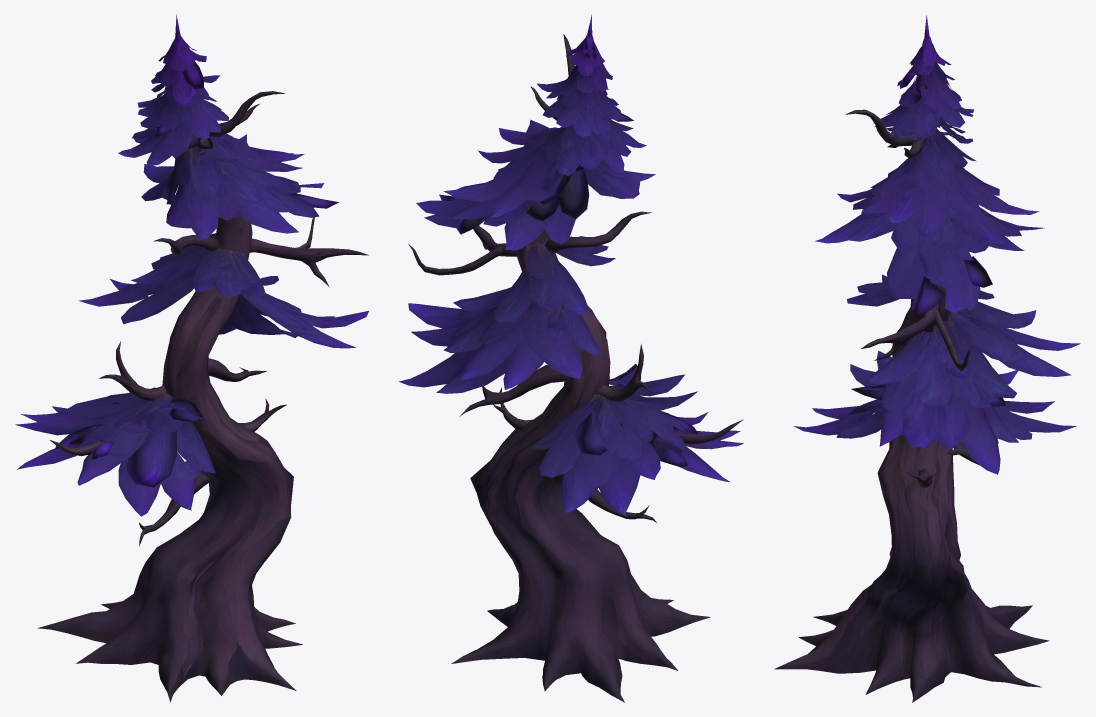
Rendered from Twisted_Indigo_Tree.glb.
3 views of the same model, side by side, from view 1: azimuth 30°, elevation 25°; view 2: azimuth 150°, elevation 25°; view 3: azimuth 270°, elevation 25° (orthographic).
Visible parts, largest first — view 1: Twisted_Indigo_Tree; view 2: Twisted_Indigo_Tree; view 3: Twisted_Indigo_Tree.
Boxes of the visible parts, box(x1,y1,x2,y2) form: Twisted_Indigo_Tree: box(15, 14, 368, 702); Twisted_Indigo_Tree: box(399, 14, 743, 702); Twisted_Indigo_Tree: box(774, 15, 1080, 702).
Size of the model in its own units: 0.5605 by 1 by 0.4404.
1 material, 1 textured.
